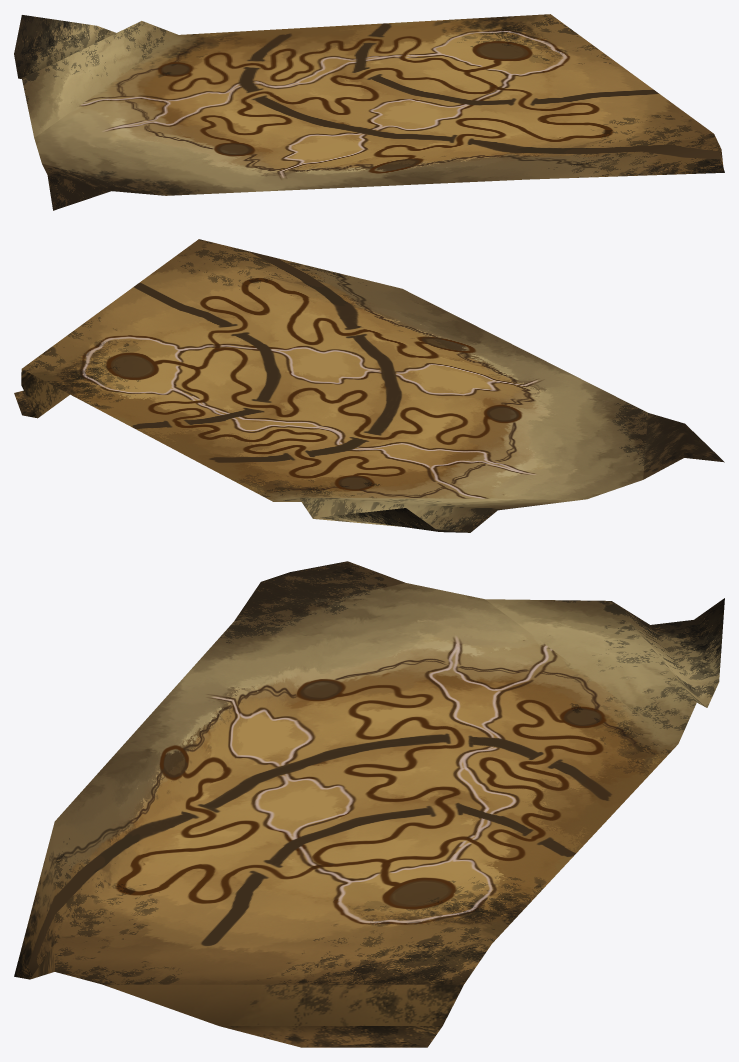
Rendered from SRMap.fbx.
3 renders of one model, top to bottom at view 1: azimuth 30°, elevation 25°; view 2: azimuth 150°, elevation 25°; view 3: azimuth 270°, elevation 25°, orthographic. The views are drawn at different scales.
Parts seen in each view (by area): view 1: polySurface706; view 2: polySurface706; view 3: polySurface706.
Part boxes in pixels (left/top/right/bottom): polySurface706: left=14, top=14, right=724, bottom=210; polySurface706: left=14, top=239, right=724, bottom=532; polySurface706: left=14, top=561, right=724, bottom=1047.
Size of the model in its own units: 1.36 by 0.2329 by 1.02.
